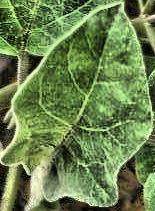HEALTHY: (1, 1, 155, 211)
